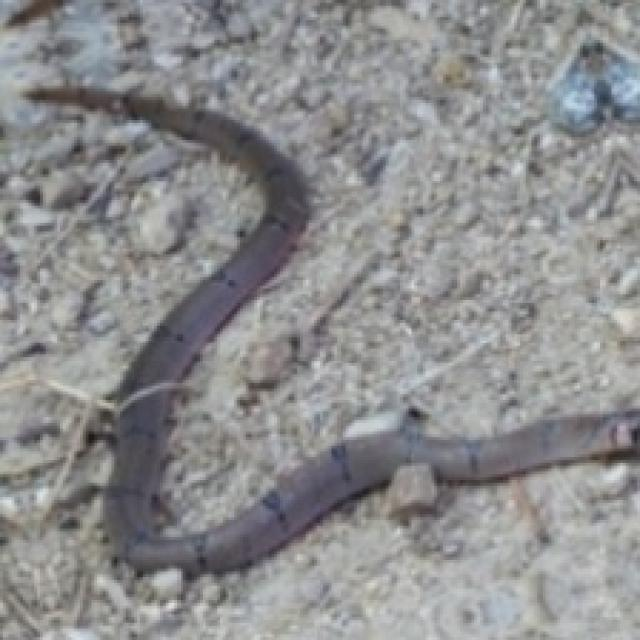northern short-headed snake: (26, 86, 637, 574)
